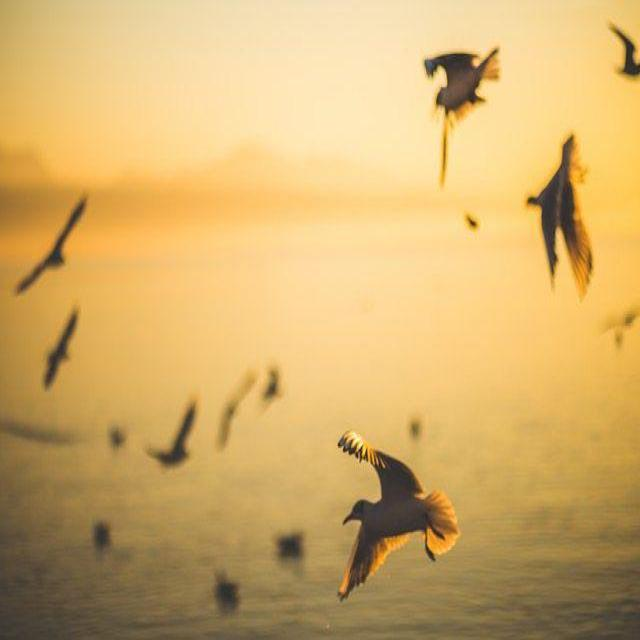bird: (332, 428, 467, 608), (411, 38, 508, 194), (524, 126, 602, 307), (13, 188, 93, 295), (140, 394, 198, 476), (39, 304, 83, 396)
